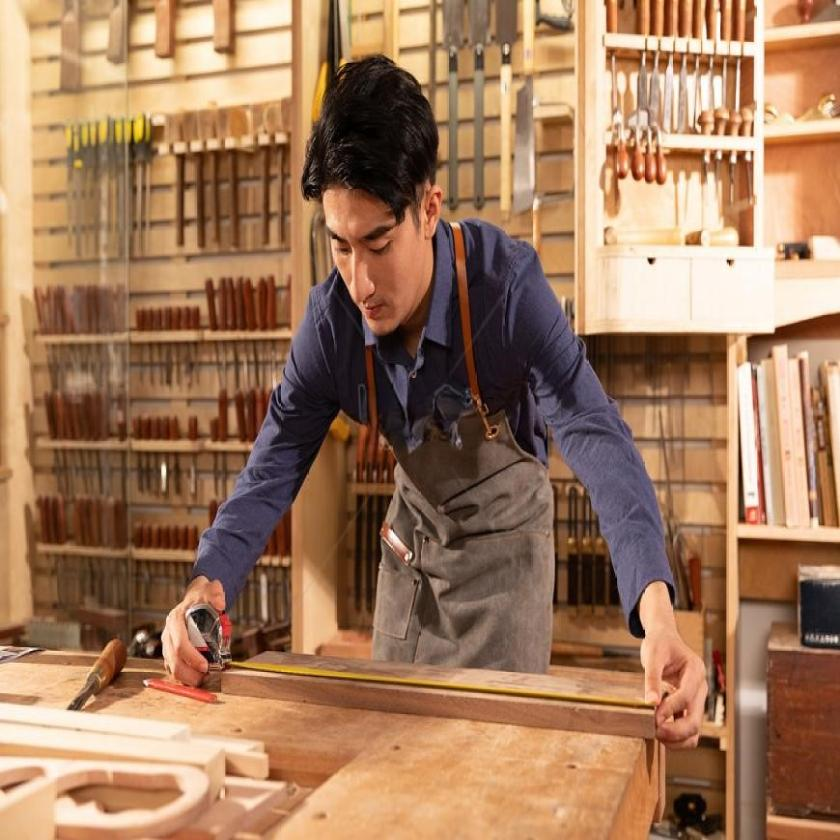Sin_casco: (297, 44, 448, 344)
